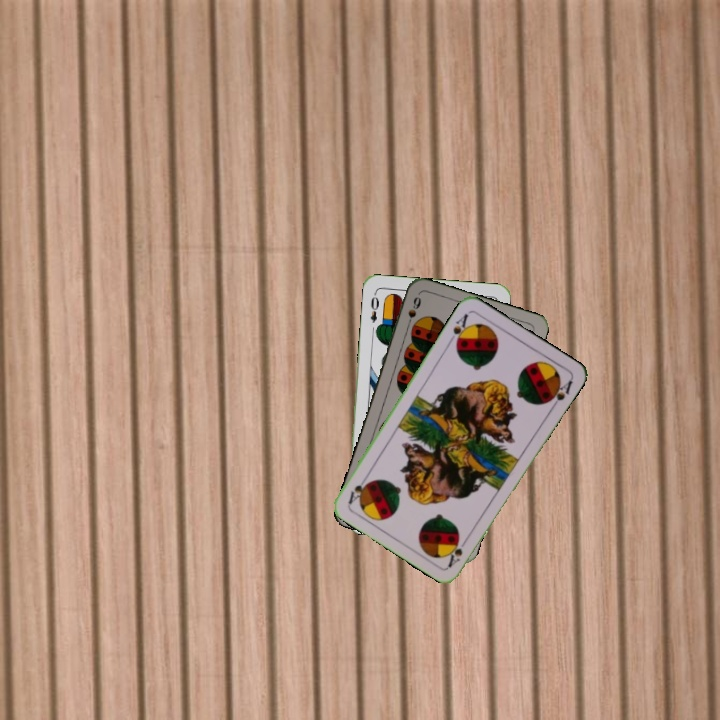EO: (366, 289, 382, 325)
S9: (402, 293, 424, 331)
SA: (444, 533, 471, 570), (449, 309, 472, 349)
